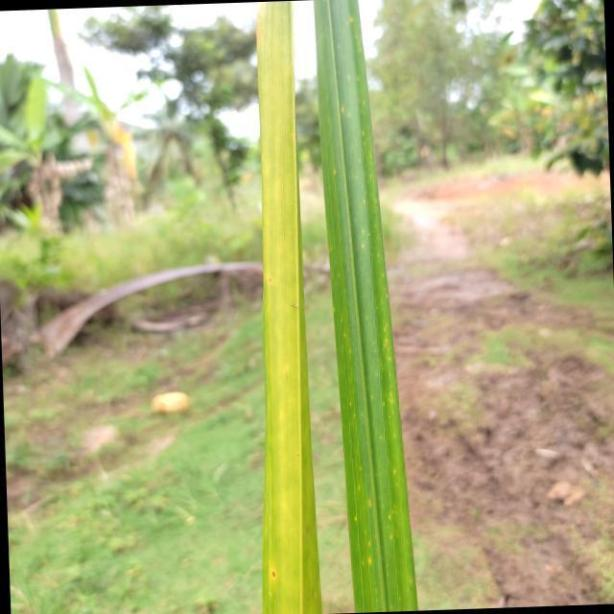nitrogen: (313, 0, 416, 614), (249, 0, 324, 612)
